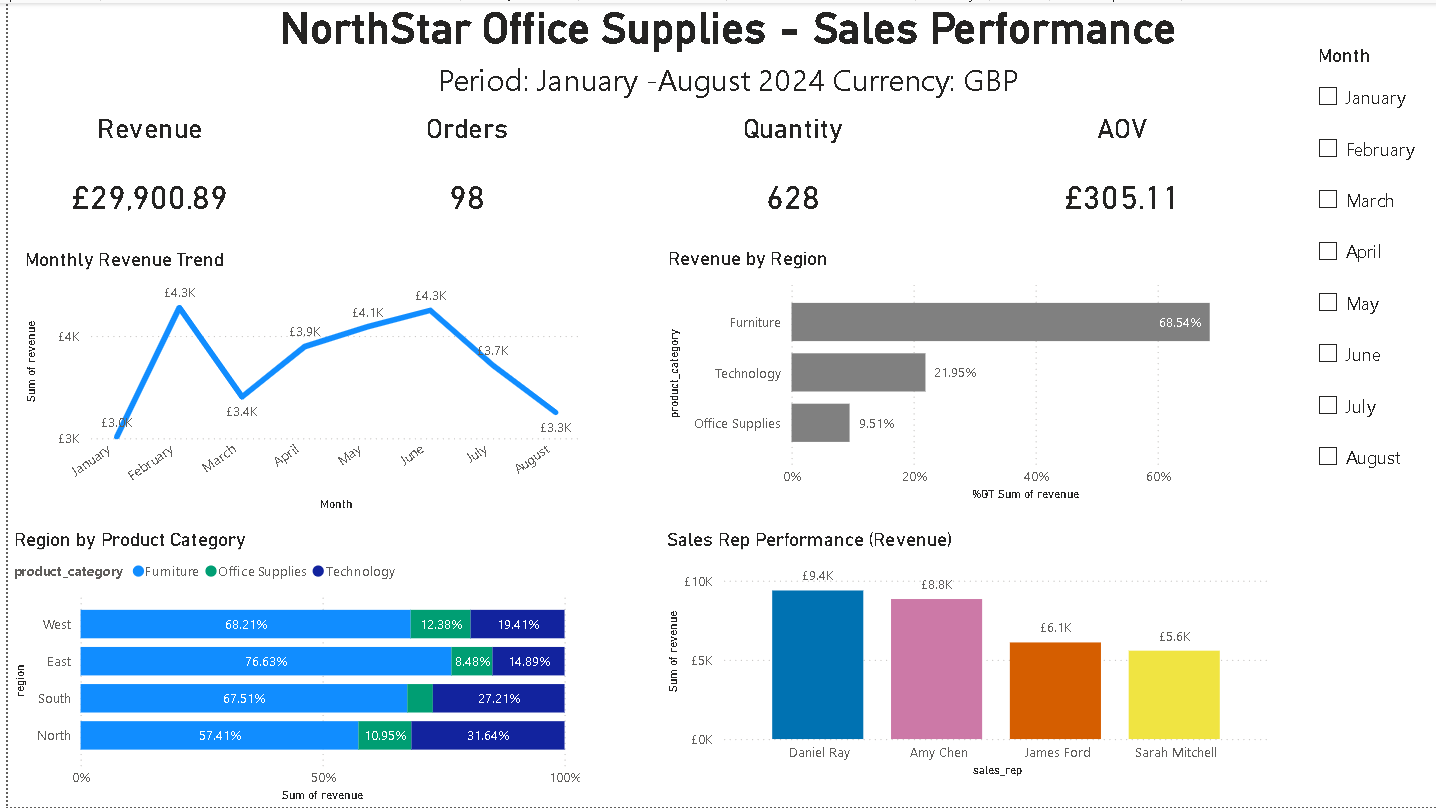

The page's visual inventory and layout, read from the dashboard file:
{"tool":"powerbi","page":{"name":"SalesPerformance","canvas":[1280,720],"ordinal":0},"visuals":[{"type":"textbox","title":"NorthStar Office Supplies - Sales Performance","box":[9.7,0,1270.3,98.2],"z":0},{"type":"lineChart","title":"Monthly Revenue Trend","fields":{"Category":["sales_data_cleaned.order_date.Variation.Date Hierarchy.Month"],"Y":["Sum(sales_data_cleaned.revenue)"]},"box":[9.8,219,508.1,239.4],"z":1000},{"type":"clusteredBarChart","title":"Revenue by Region","fields":{"Y":["Sum(sales_data_cleaned.revenue)"],"Category":["sales_data_cleaned.product_category"]},"box":[585.5,218.8,551.5,231.5],"z":2000},{"type":"hundredPercentStackedBarChart","title":"Region by Product Category","fields":{"Category":["sales_data_cleaned.region"],"Series":["sales_data_cleaned.product_category"],"Y":["Sum(sales_data_cleaned.revenue)"]},"box":[0,470,517.4,249.9],"z":3000},{"type":"columnChart","title":"Sales Rep Performance (Revenue)","fields":{"Category":["sales_data_cleaned.sales_rep"],"Y":["Sum(sales_data_cleaned.revenue)"]},"box":[585.2,470,551.5,227],"z":4000},{"type":"listSlicer","fields":{"Values":["sales_data_cleaned.order_date.Variation.Date Hierarchy.Month"]},"box":[1168.1,37,111.9,398.8],"z":5000},{"type":"card","title":"Revenue","fields":{"Values":["sales_data_cleaned.Total Revenue"]},"box":[20.4,98.4,212.8,120.6],"z":6000},{"type":"card","title":"Orders","fields":{"Values":["sales_data_cleaned.Total Orders"]},"box":[304.1,98.4,213.7,120.6],"z":7000},{"type":"card","title":"Quantity","fields":{"Values":["Sum(sales_data_cleaned.quantity)"]},"box":[596.7,98.4,212.8,120.6],"z":8000},{"type":"card","title":"AOV","fields":{"Values":["sales_data_cleaned.Average Order Value"]},"box":[891.1,98.4,213.7,120.6],"z":9000}]}

Visuals, with their boxes in screenshot pixels (x1, y1, x2, y2), scaled from the page's 1280x720 canvas onto the 1436x808 screenshot:
"NorthStar Office Supplies - Sales Performance" textbox: 11,0,1435,110
"Monthly Revenue Trend" lineChart: 11,246,581,514
"Revenue by Region" clusteredBarChart: 657,246,1276,505
"Region by Product Category" hundredPercentStackedBarChart: 0,527,580,807
"Sales Rep Performance (Revenue)" columnChart: 657,527,1275,782
listSlicer - sales_data_cleaned.order_date.Variation.Date Hierarchy.Month: 1310,42,1435,489
"Revenue" card: 23,110,262,246
"Orders" card: 341,110,581,246
"Quantity" card: 669,110,908,246
"AOV" card: 1000,110,1239,246
